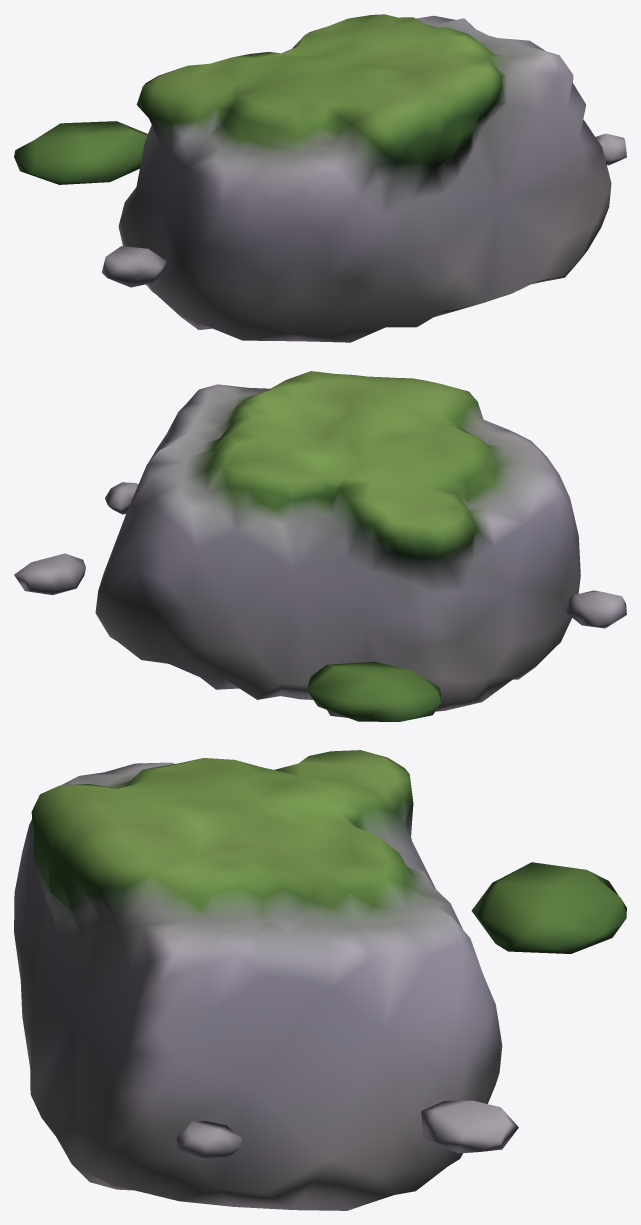
File: tree-village-rock-v3.glb
3 renders of one model, top to bottom at view 1: azimuth 30°, elevation 25°; view 2: azimuth 150°, elevation 25°; view 3: azimuth 270°, elevation 25°, orthographic. The views are drawn at different scales.
Parts seen in each view (by area): view 1: rock; view 2: rock; view 3: rock.
Boxes of the visible parts, x1,y1,x2,y2 form: rock: (14,14,626,342); rock: (14,371,626,721); rock: (14,750,626,1210).
Size of the model in its own units: 1.68 by 0.6808 by 1.32.
